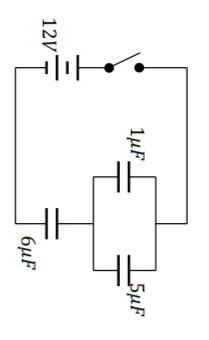Capacitor: (33, 197, 73, 249)
